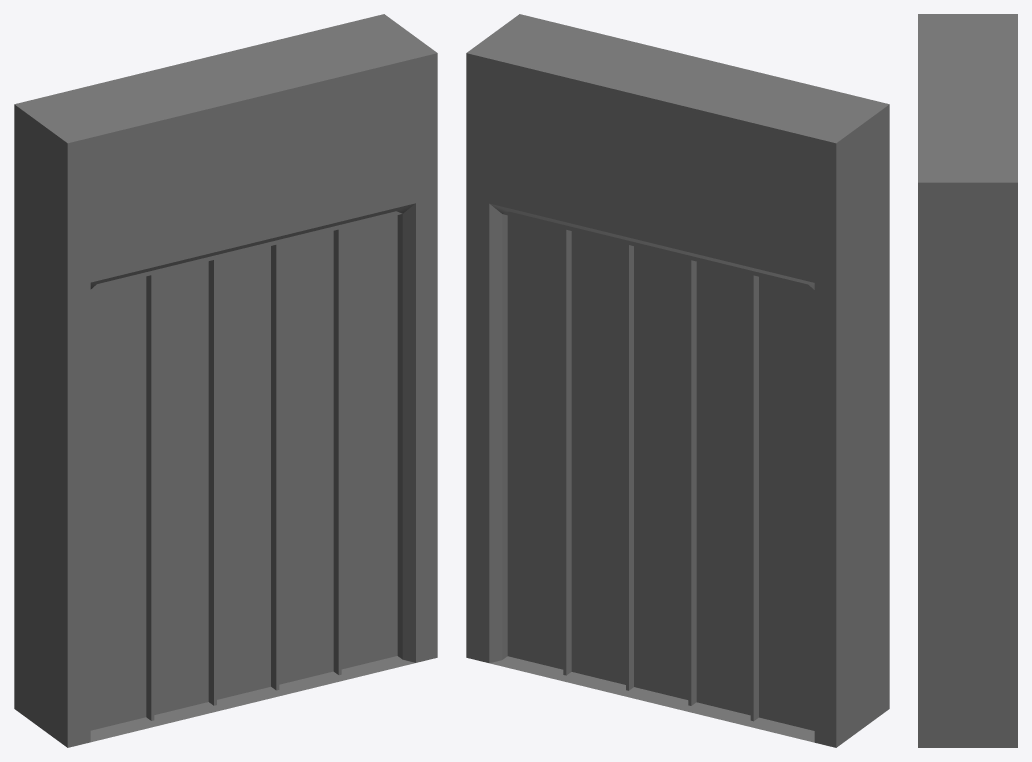
File: tesla_modules1_exterior_wall_01.dae
3 renders of one model, left to right at view 1: azimuth 30°, elevation 25°; view 2: azimuth 150°, elevation 25°; view 3: azimuth 270°, elevation 25°, orthographic. The views are drawn at different scales.
Visible parts, largest first — view 1: polySurface301; view 2: polySurface301; view 3: polySurface301.
Boxes of the visible parts, x1,y1,x2,y2 form: polySurface301: (14,14,437,747); polySurface301: (466,14,889,747); polySurface301: (918,14,1017,747).
Bounding box in the file's own units: 4000 × 6247 × 1000.
